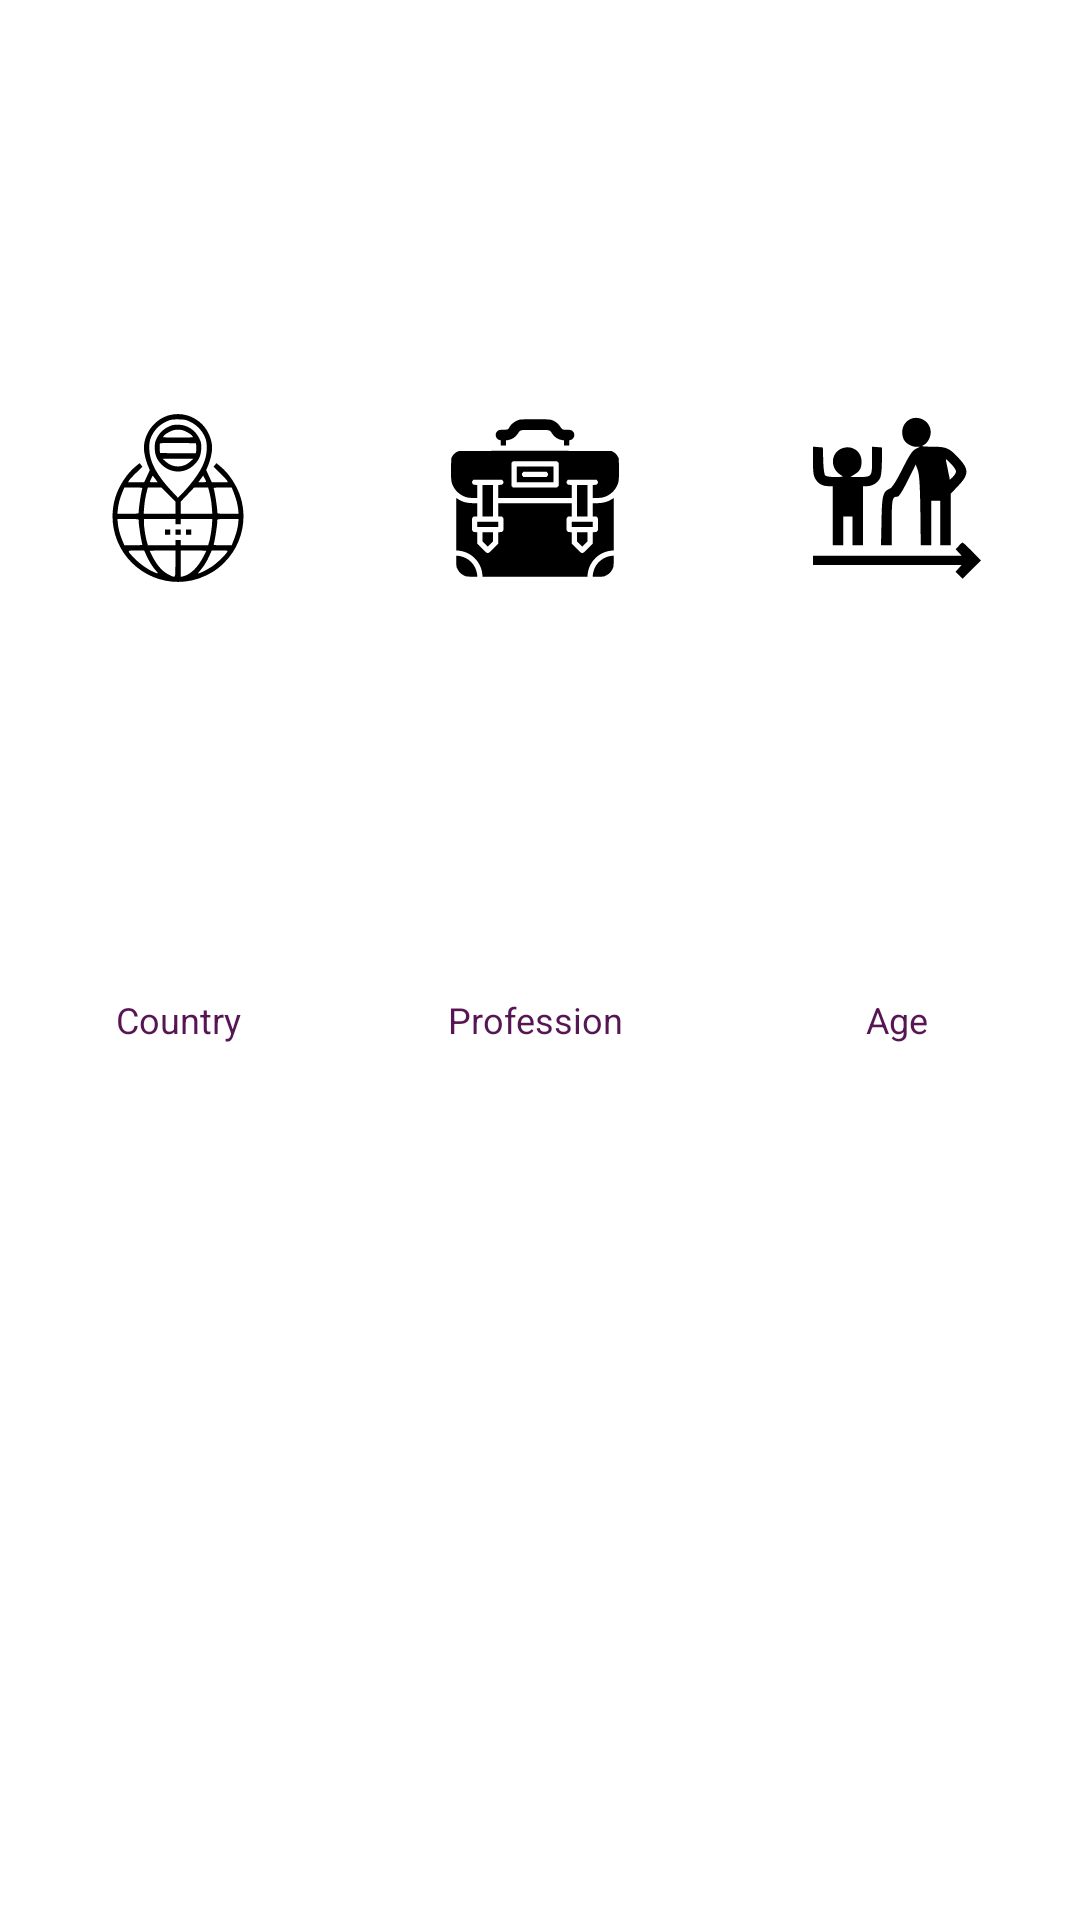

Where to tap for icons on this 1080w x 1920h app screen, as [x,y]:
age: [897,498]
country: [178,498]
profession: [535,498]
